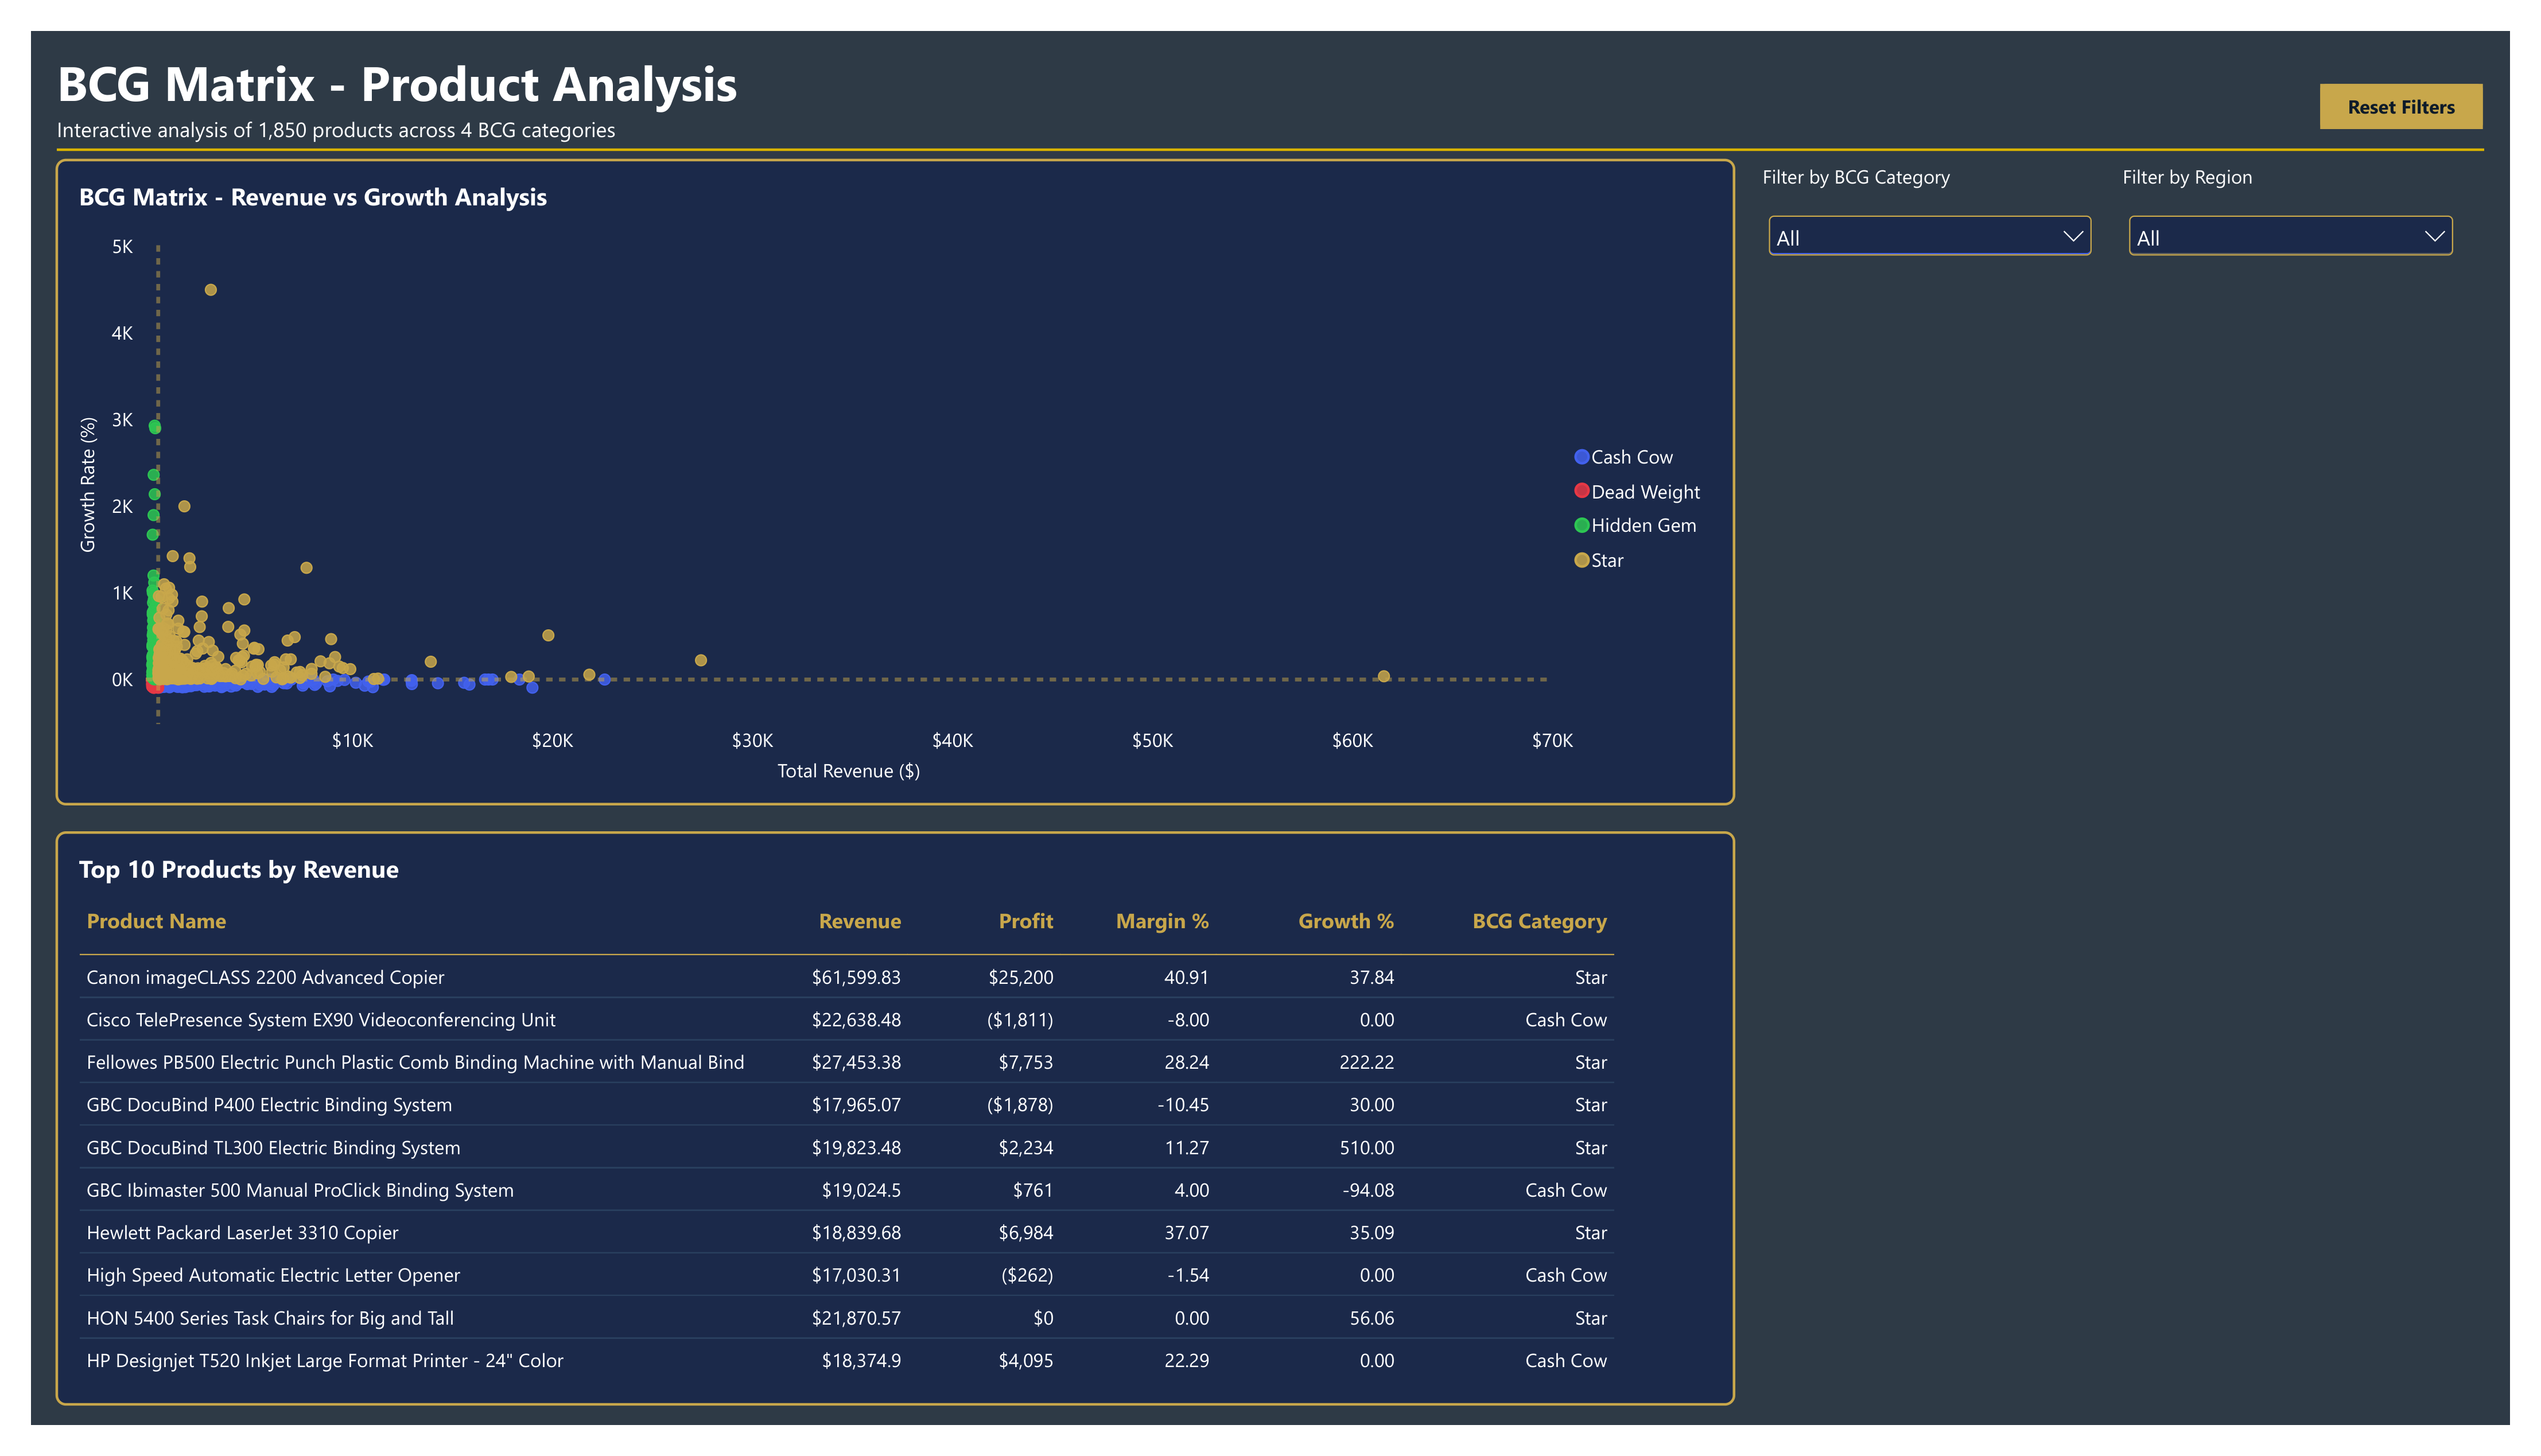

This screenshot's page, from the dashboard's own definition file:
{"tool":"powerbi","page":{"name":"BCG Matrix Analysis","canvas":[1920,1080],"ordinal":1},"visuals":[{"type":"tableEx","title":"Top 10 Products by Revenue","fields":{"Values":["productiq_db product_kpis.product_name","Sum(productiq_db product_kpis.total_revenue)","Sum(productiq_db product_kpis.total_profit)","Sum(productiq_db product_kpis.profit_margin_pct)","Sum(productiq_db product_kpis.mom_growth_pct)","productiq_db product_kpis.bcg_category"]},"box":[19.4,619.9,1300.3,445],"z":0},{"type":"scatterChart","title":"BCG Matrix - Revenue vs Growth Analysis","fields":{"Category":["productiq_db product_kpis.product_name"],"Series":["productiq_db product_kpis.bcg_category"],"X":["Sum(productiq_db product_kpis.total_revenue)"],"Y":["Sum(productiq_db product_kpis.mom_growth_pct)"]},"box":[19.4,99.4,1300.3,501.1],"z":1000},{"type":"slicer","title":"Filter by BCG Category","fields":{"Values":["productiq_db product_kpis.bcg_category"]},"box":[1341.4,101.5,259.2,116.6],"z":2000},{"type":"slicer","title":"Filter by Region","fields":{"Values":["productiq_db superstore.region"]},"box":[1620,101.5,261.4,116.6],"z":3000},{"type":"textbox","box":[20,14,699.6,52.3],"z":4000},{"type":"textbox","box":[20,65,700,25],"z":5000},{"type":"shape","box":[20,86,1880,12],"z":6000},{"type":"actionButton","box":[1773.4,41,125.3,34.6],"z":6001}]}

Visuals, with their boxes in screenshot pixels (x1, y1, x2, y2), scaled from the page's 1920x1080 canvas onto the 2541x1456 screenshot:
"Top 10 Products by Revenue" tableEx: 26,836,1747,1436
"BCG Matrix - Revenue vs Growth Analysis" scatterChart: 26,134,1747,809
"Filter by BCG Category" slicer: 1775,137,2118,294
"Filter by Region" slicer: 2144,137,2490,294
textbox: 26,19,953,89
textbox: 26,88,953,122
shape: 26,116,2515,132
actionButton: 2347,55,2513,102
